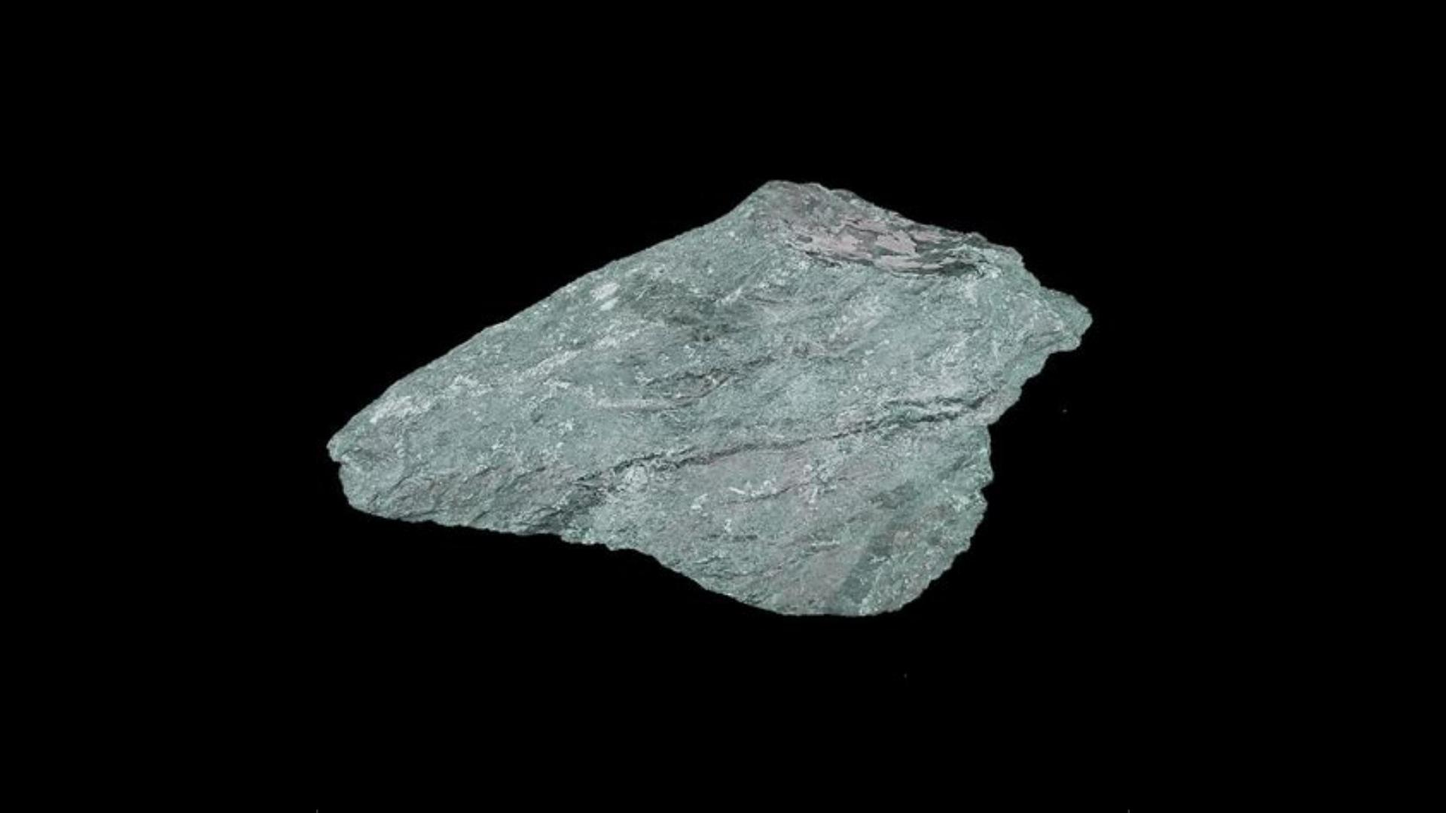rock: (330, 182, 1089, 612)
